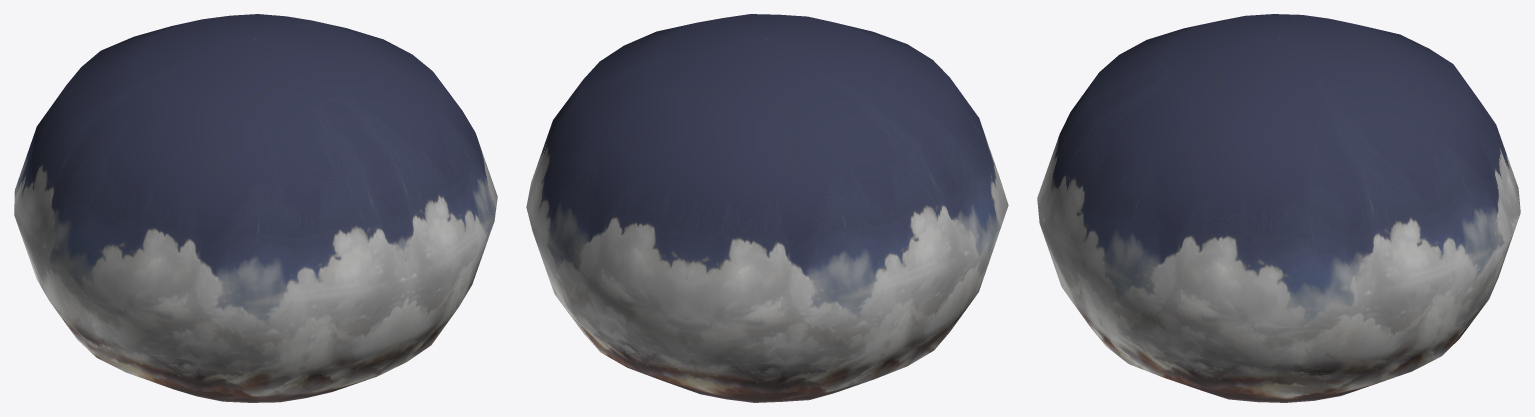
Rendered from 10104_skybox2.FBX.
The picture shows the model from 3 angles, left to right: view 1: azimuth 30°, elevation 25°; view 2: azimuth 150°, elevation 25°; view 3: azimuth 270°, elevation 25°; orthographic projection.
Visible parts, largest first — view 1: Sphere01; view 2: Sphere01; view 3: Sphere01.
Part boxes in pixels (x1,y1,x2,y2): Sphere01: (14, 14, 497, 402); Sphere01: (526, 14, 1008, 402); Sphere01: (1037, 14, 1520, 402).
Bounding box in the file's own units: 24352 × 18378 × 24421.
